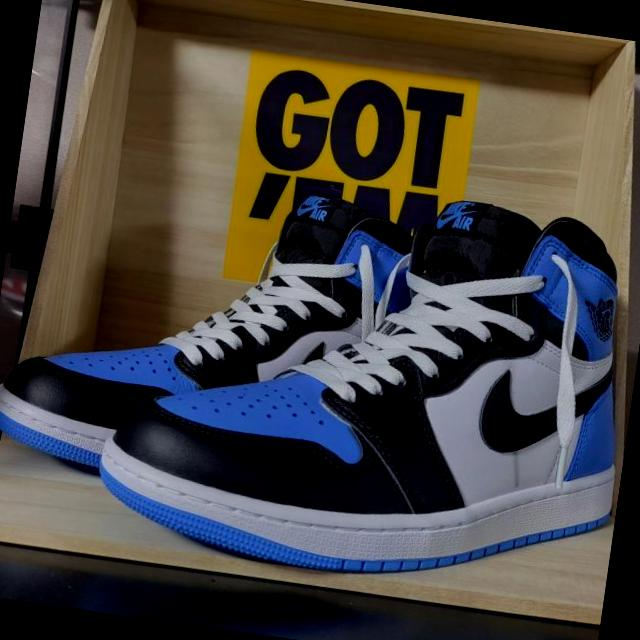nike_original_jordan: (113, 160, 640, 614), (0, 146, 436, 504)
